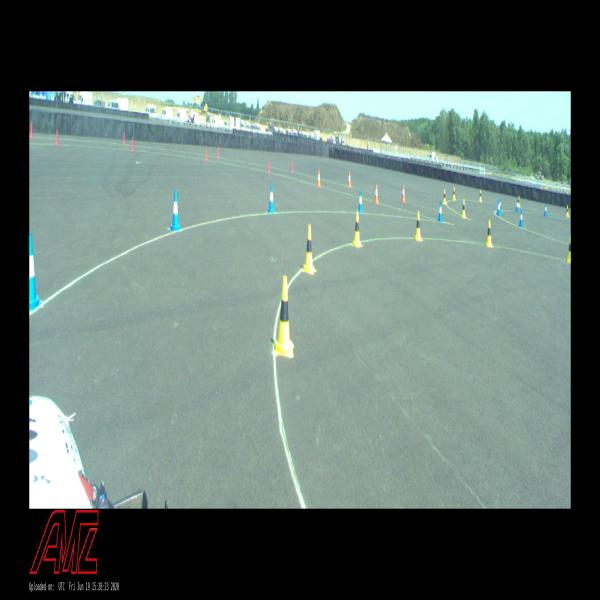blue_cone: (29, 232, 41, 311), (170, 189, 180, 231), (268, 183, 275, 214), (359, 190, 363, 213), (438, 201, 442, 222), (519, 209, 523, 227), (515, 199, 519, 212), (497, 201, 500, 216), (544, 203, 547, 216), (499, 197, 501, 212)
orange_cone: (374, 183, 379, 204), (401, 184, 406, 201), (348, 170, 352, 187), (317, 170, 321, 187)
yellow_cone: (274, 276, 294, 356), (303, 225, 315, 274), (353, 212, 361, 246), (414, 210, 422, 241), (486, 220, 493, 248), (566, 236, 570, 262), (461, 199, 466, 218), (442, 189, 446, 204), (452, 186, 456, 200), (565, 205, 569, 216), (479, 189, 482, 202), (518, 196, 521, 207)
